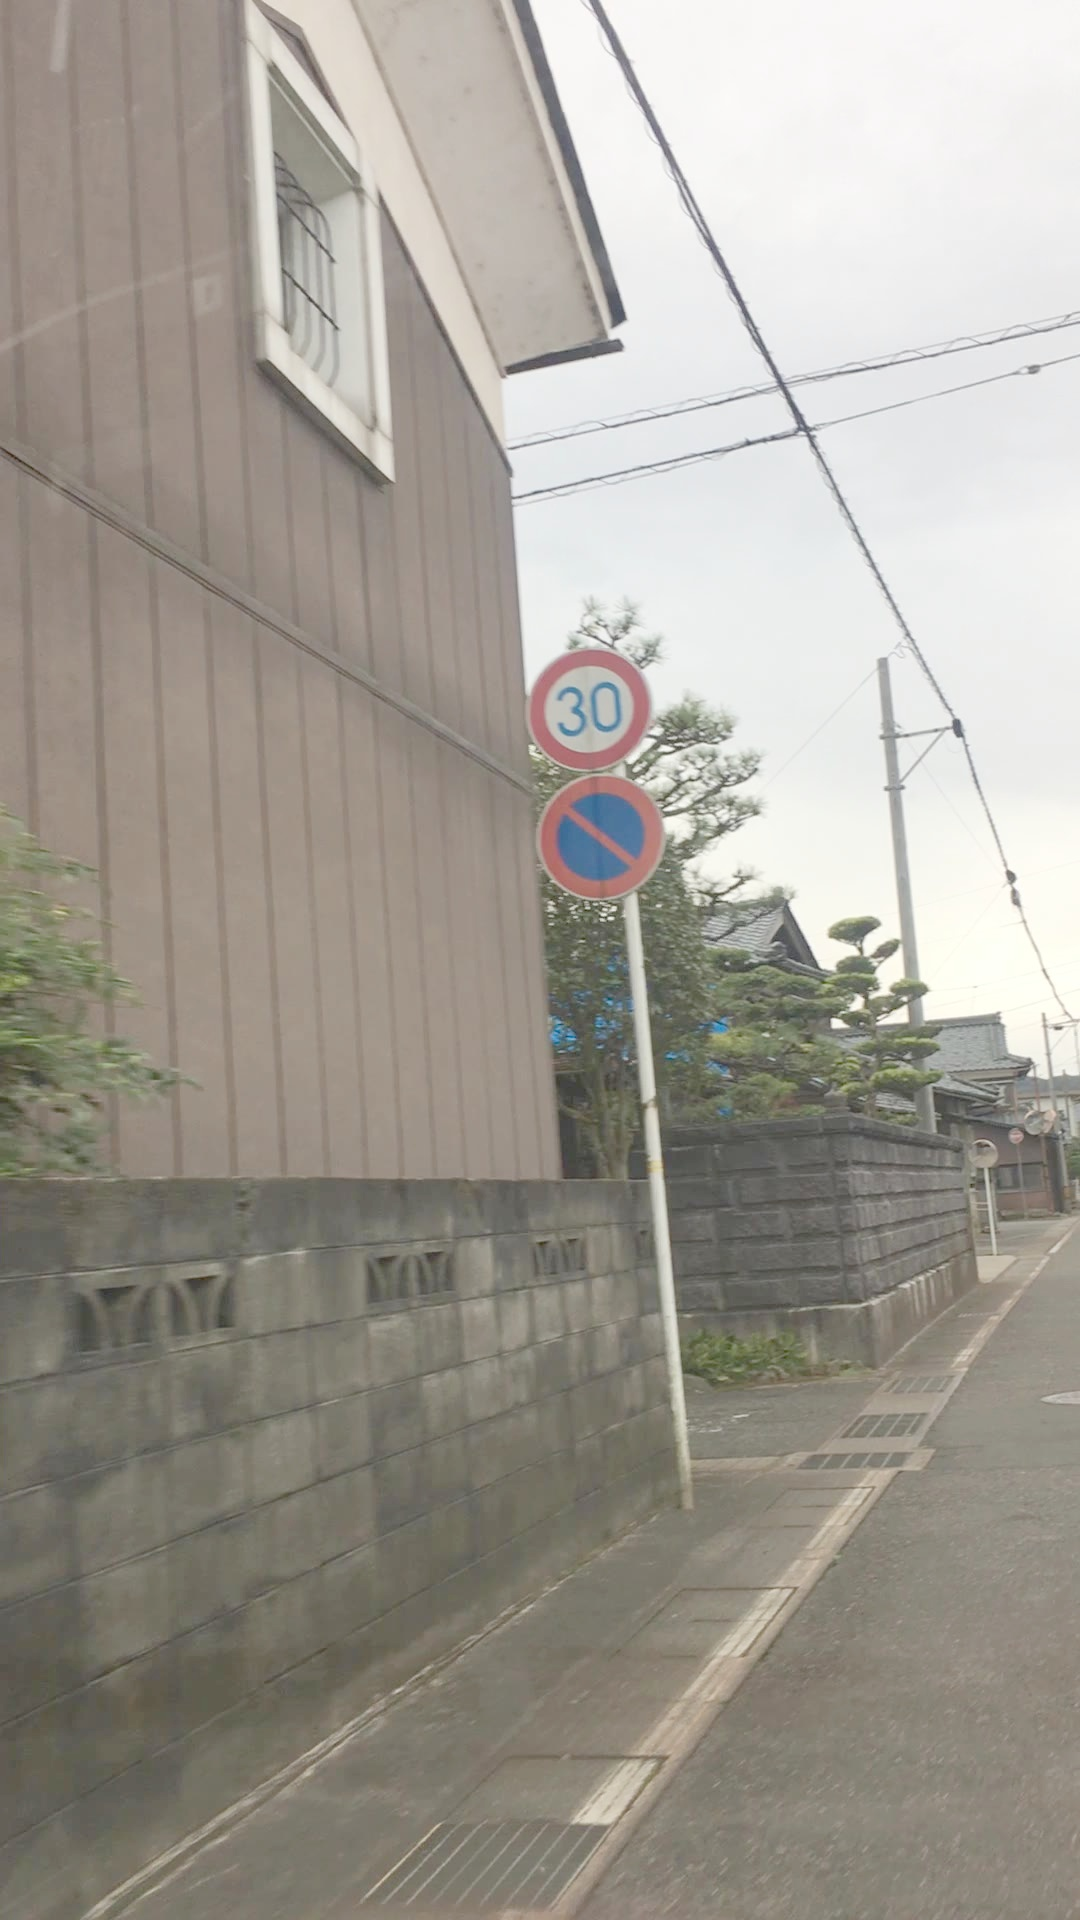Prohibition_sign: (510, 767, 674, 932)
Speed_sign: (530, 655, 655, 771)
